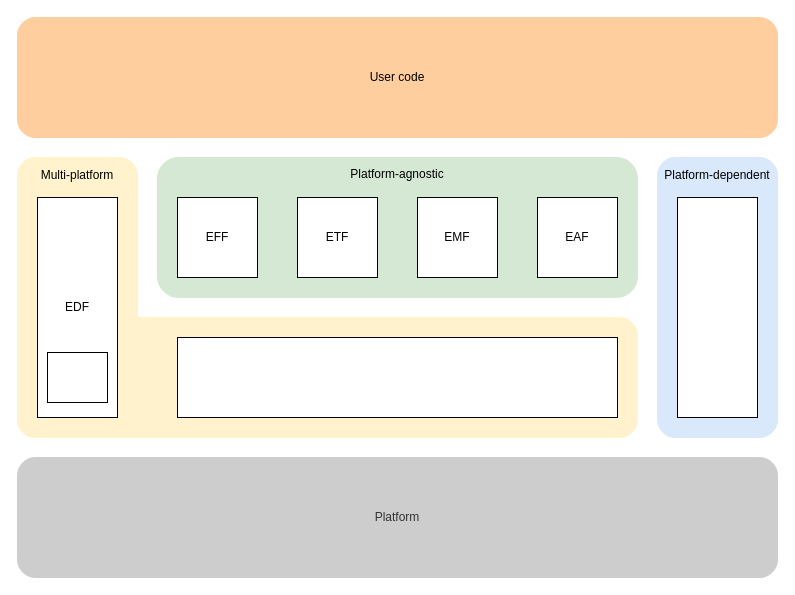
This 795x595 diagram has some shape labels left out. Here are the shapes that lost their labels. From the top down, the centre of each, then its label:
At point 717,307: "EPF".
At point 77,377: "EDF Test".
At point 397,377: "EBF".
